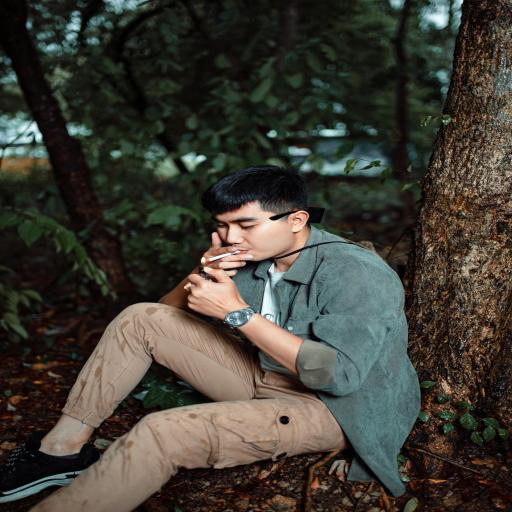terdeteksi merokok: (184, 201, 266, 282)
